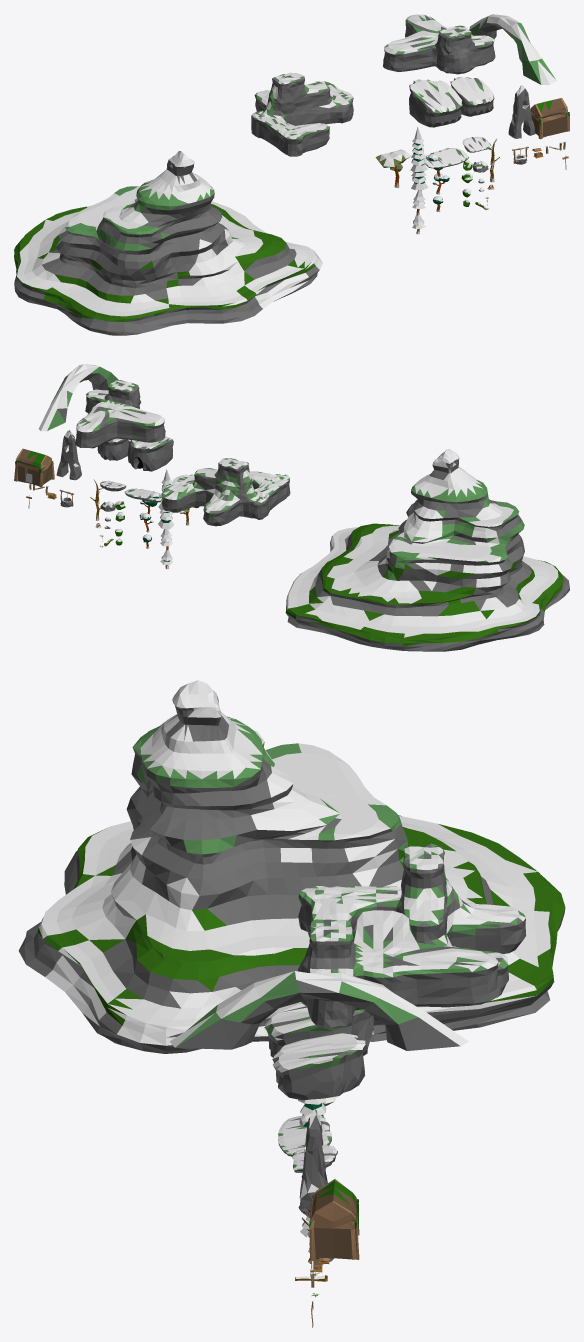
File: Lowpoly Forest Pack Winter.fbx
3 renders of one model, top to bottom at view 1: azimuth 30°, elevation 25°; view 2: azimuth 150°, elevation 25°; view 3: azimuth 270°, elevation 25°, orthographic. The views are drawn at different scales.
Visible parts, largest first — view 1: Mountain, Winter Cliff 3, Winter Cliff 2, Winter Cave, Winter Arch, Winter Cliff 1, Building 1, Walk Through Rock, Winter Low Cliff 2, Cylinder.049, Winter Pine Tree 4; view 2: Mountain, Winter Cliff 3, Winter Cliff 2, Winter Arch, Winter Cave, Building 1, Walk Through Rock, Winter Cliff 1; view 3: Mountain, Winter Cliff 2, Winter Cliff 3, Winter Arch, Winter Cliff 1, Building 1, Winter Cave, Walk Through Rock, Winter Low Cliff 2.
Boxes of the visible parts, box(x1,y1,x2,y2) form: Mountain: box(14, 151, 322, 335); Winter Cliff 3: box(251, 72, 353, 156); Winter Cliff 2: box(383, 14, 495, 74); Winter Cave: box(409, 79, 462, 127); Winter Arch: box(469, 14, 556, 84); Winter Cliff 1: box(450, 77, 494, 116); Building 1: box(530, 98, 569, 139); Walk Through Rock: box(508, 85, 535, 138); Winter Low Cliff 2: box(424, 148, 468, 168); Cylinder.049: box(375, 149, 411, 188); Winter Pine Tree 4: box(410, 126, 427, 171); Mountain: box(285, 449, 569, 651); Winter Cliff 3: box(161, 458, 290, 526); Winter Cliff 2: box(75, 380, 165, 448); Winter Arch: box(38, 364, 118, 431); Winter Cave: box(127, 436, 173, 471); Building 1: box(14, 448, 54, 487); Walk Through Rock: box(56, 430, 81, 480); Winter Cliff 1: box(97, 438, 128, 460); Mountain: box(18, 680, 565, 1053); Winter Cliff 2: box(298, 910, 501, 1028); Winter Cliff 3: box(298, 843, 526, 997); Winter Arch: box(169, 971, 468, 1050); Winter Cliff 1: box(272, 1033, 365, 1100); Building 1: box(309, 1179, 359, 1260); Winter Cave: box(263, 1002, 374, 1057); Walk Through Rock: box(299, 1109, 327, 1211); Winter Low Cliff 2: box(278, 1114, 331, 1156).
Bounding box in the file's own units: 12093 × 4032 × 5561.
